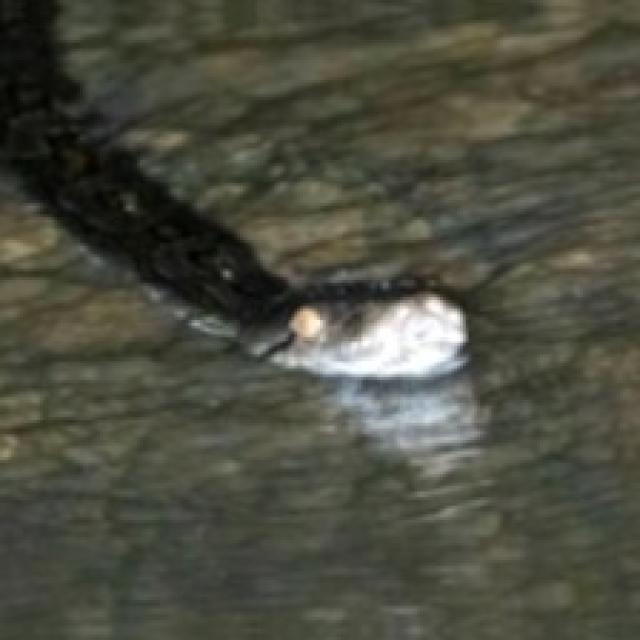reticulated python: (0, 0, 466, 377)
